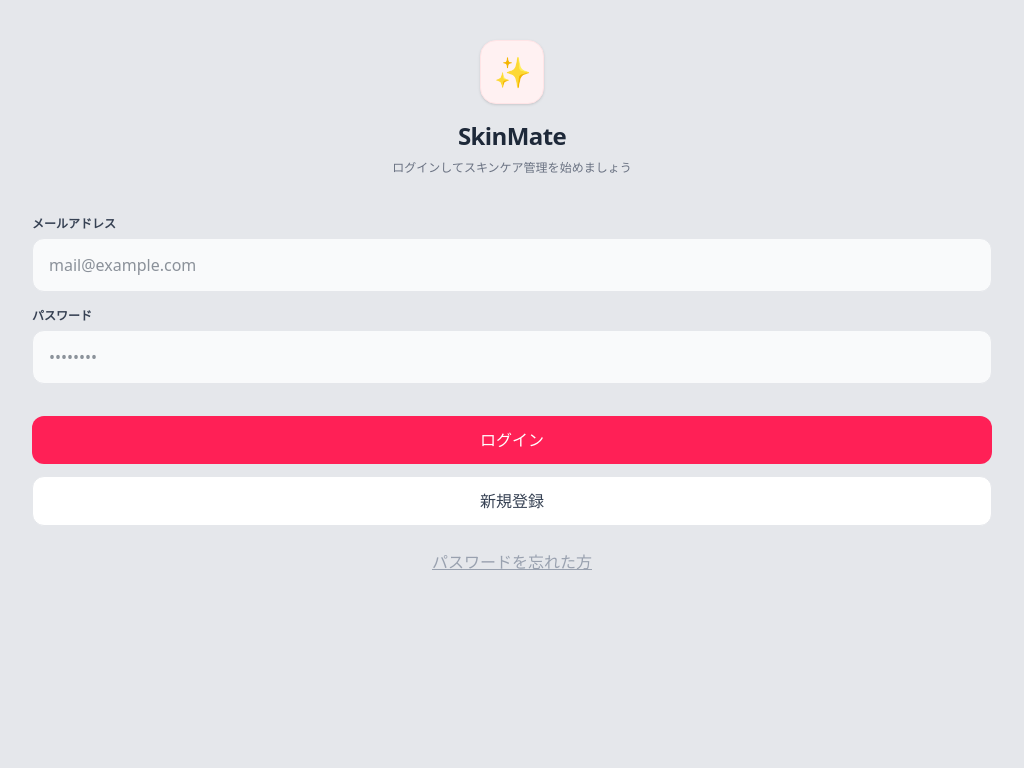
Test case: Auth components › LoginForm は必須項目が未入力ならエラーを表示する
Click the button "ログイン" at (512, 440), box [32,416,992,464]
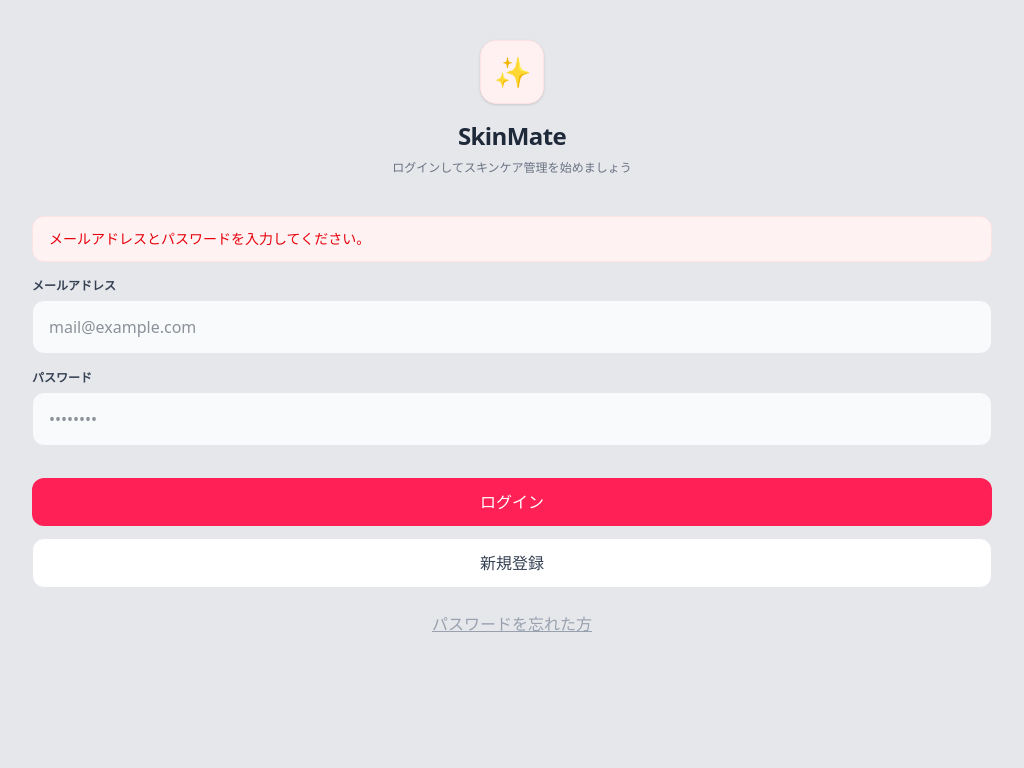
Check: the text "メールアドレスとパスワードを入力してください。" is shown, box [32,216,992,262]
